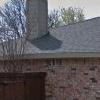Chimney: (21, 2, 54, 41)
